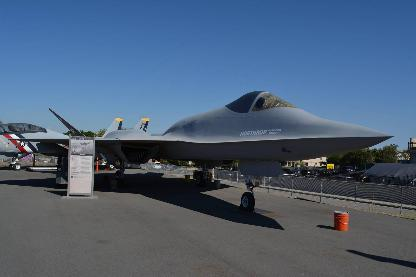EF2000: (0, 117, 150, 170)
US2: (6, 90, 394, 211), (72, 147, 84, 152), (80, 141, 90, 144)
